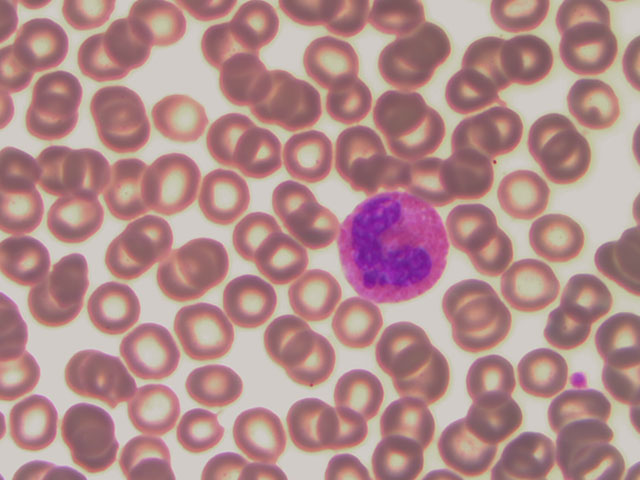Platelets: (569, 364, 590, 388)
RBC: (14, 18, 74, 72), (27, 64, 87, 118), (17, 99, 77, 153), (22, 137, 82, 191), (50, 146, 110, 200), (45, 192, 105, 246), (41, 247, 101, 301), (28, 272, 88, 326), (82, 283, 142, 337), (116, 324, 176, 378), (80, 348, 140, 402), (3, 393, 63, 447), (54, 403, 114, 457), (122, 383, 182, 437), (184, 356, 244, 410), (176, 303, 236, 357), (154, 247, 214, 301), (177, 231, 237, 285), (120, 213, 180, 267), (100, 227, 160, 281), (97, 162, 157, 216), (141, 153, 201, 207), (154, 89, 214, 143), (92, 106, 152, 160), (87, 81, 147, 135), (68, 35, 128, 89), (90, 21, 150, 75), (193, 15, 253, 69), (212, 45, 272, 99), (240, 68, 300, 122), (264, 79, 324, 133), (203, 112, 263, 166), (230, 126, 290, 180), (281, 128, 341, 182), (266, 172, 326, 226), (279, 200, 339, 254), (253, 235, 313, 289), (224, 207, 284, 261), (199, 169, 259, 223), (217, 273, 277, 327), (258, 310, 318, 364), (278, 331, 338, 385), (280, 398, 340, 452), (234, 403, 294, 457), (180, 401, 240, 455), (319, 402, 379, 456), (333, 367, 393, 421), (325, 295, 385, 349), (376, 319, 436, 373), (389, 347, 449, 401), (378, 394, 438, 448), (373, 426, 433, 480), (437, 423, 497, 477), (460, 389, 520, 443), (462, 358, 522, 412), (455, 308, 515, 362), (444, 279, 504, 333), (501, 258, 561, 312), (464, 229, 524, 283), (443, 201, 503, 255), (441, 152, 501, 206), (404, 149, 464, 203), (346, 142, 406, 196), (329, 122, 389, 176), (323, 77, 383, 131), (300, 33, 360, 87), (373, 84, 433, 138), (395, 102, 455, 156), (442, 69, 502, 123), (462, 38, 522, 92), (495, 34, 555, 88), (404, 21, 464, 75), (378, 37, 438, 91), (562, 32, 622, 86), (556, 3, 616, 57), (567, 75, 627, 129), (526, 101, 586, 155), (535, 132, 595, 186), (498, 170, 558, 224), (523, 206, 583, 260), (557, 267, 617, 321), (542, 302, 602, 356), (509, 344, 569, 398), (549, 383, 609, 437), (501, 423, 561, 477), (580, 312, 640, 366), (1, 229, 60, 283), (124, 1, 184, 54), (227, 1, 287, 54)
WBC: (337, 191, 448, 302)
